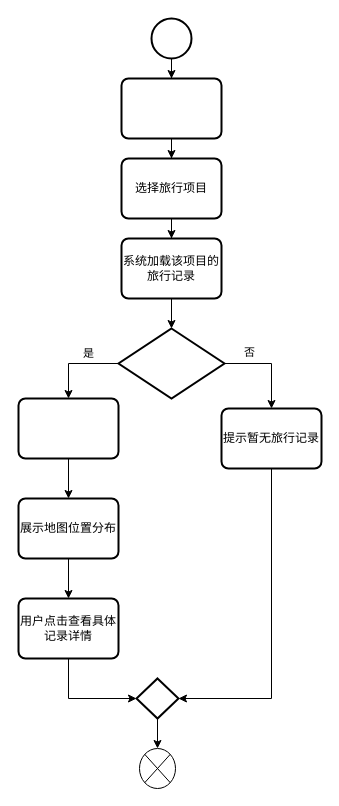
Some shapes in this 339 by 806 pixel diagram are drawn without their labels. Here are the shapes that lost their labels. From the top down, the centre of each, then its label:
At pixel 171 108: "用户进入时间轴/地图页面".
At pixel 171 363: "是否存在记录".
At pixel 68 428: "展示时间轴列表".
